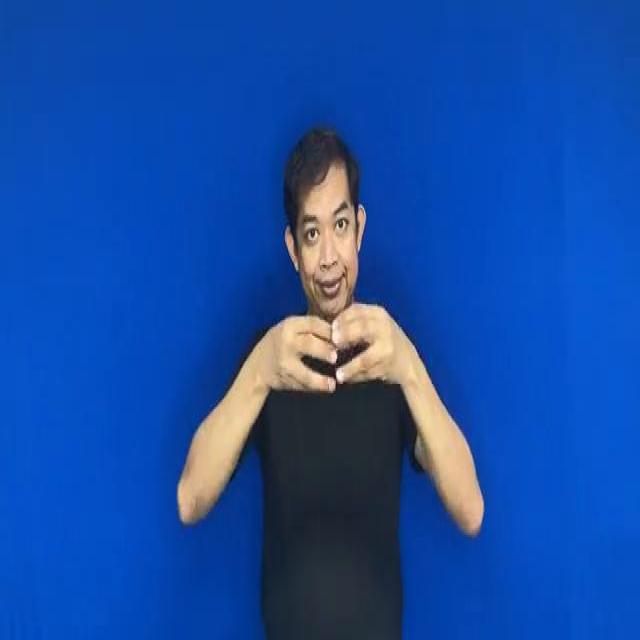egg: (257, 296, 410, 416)
